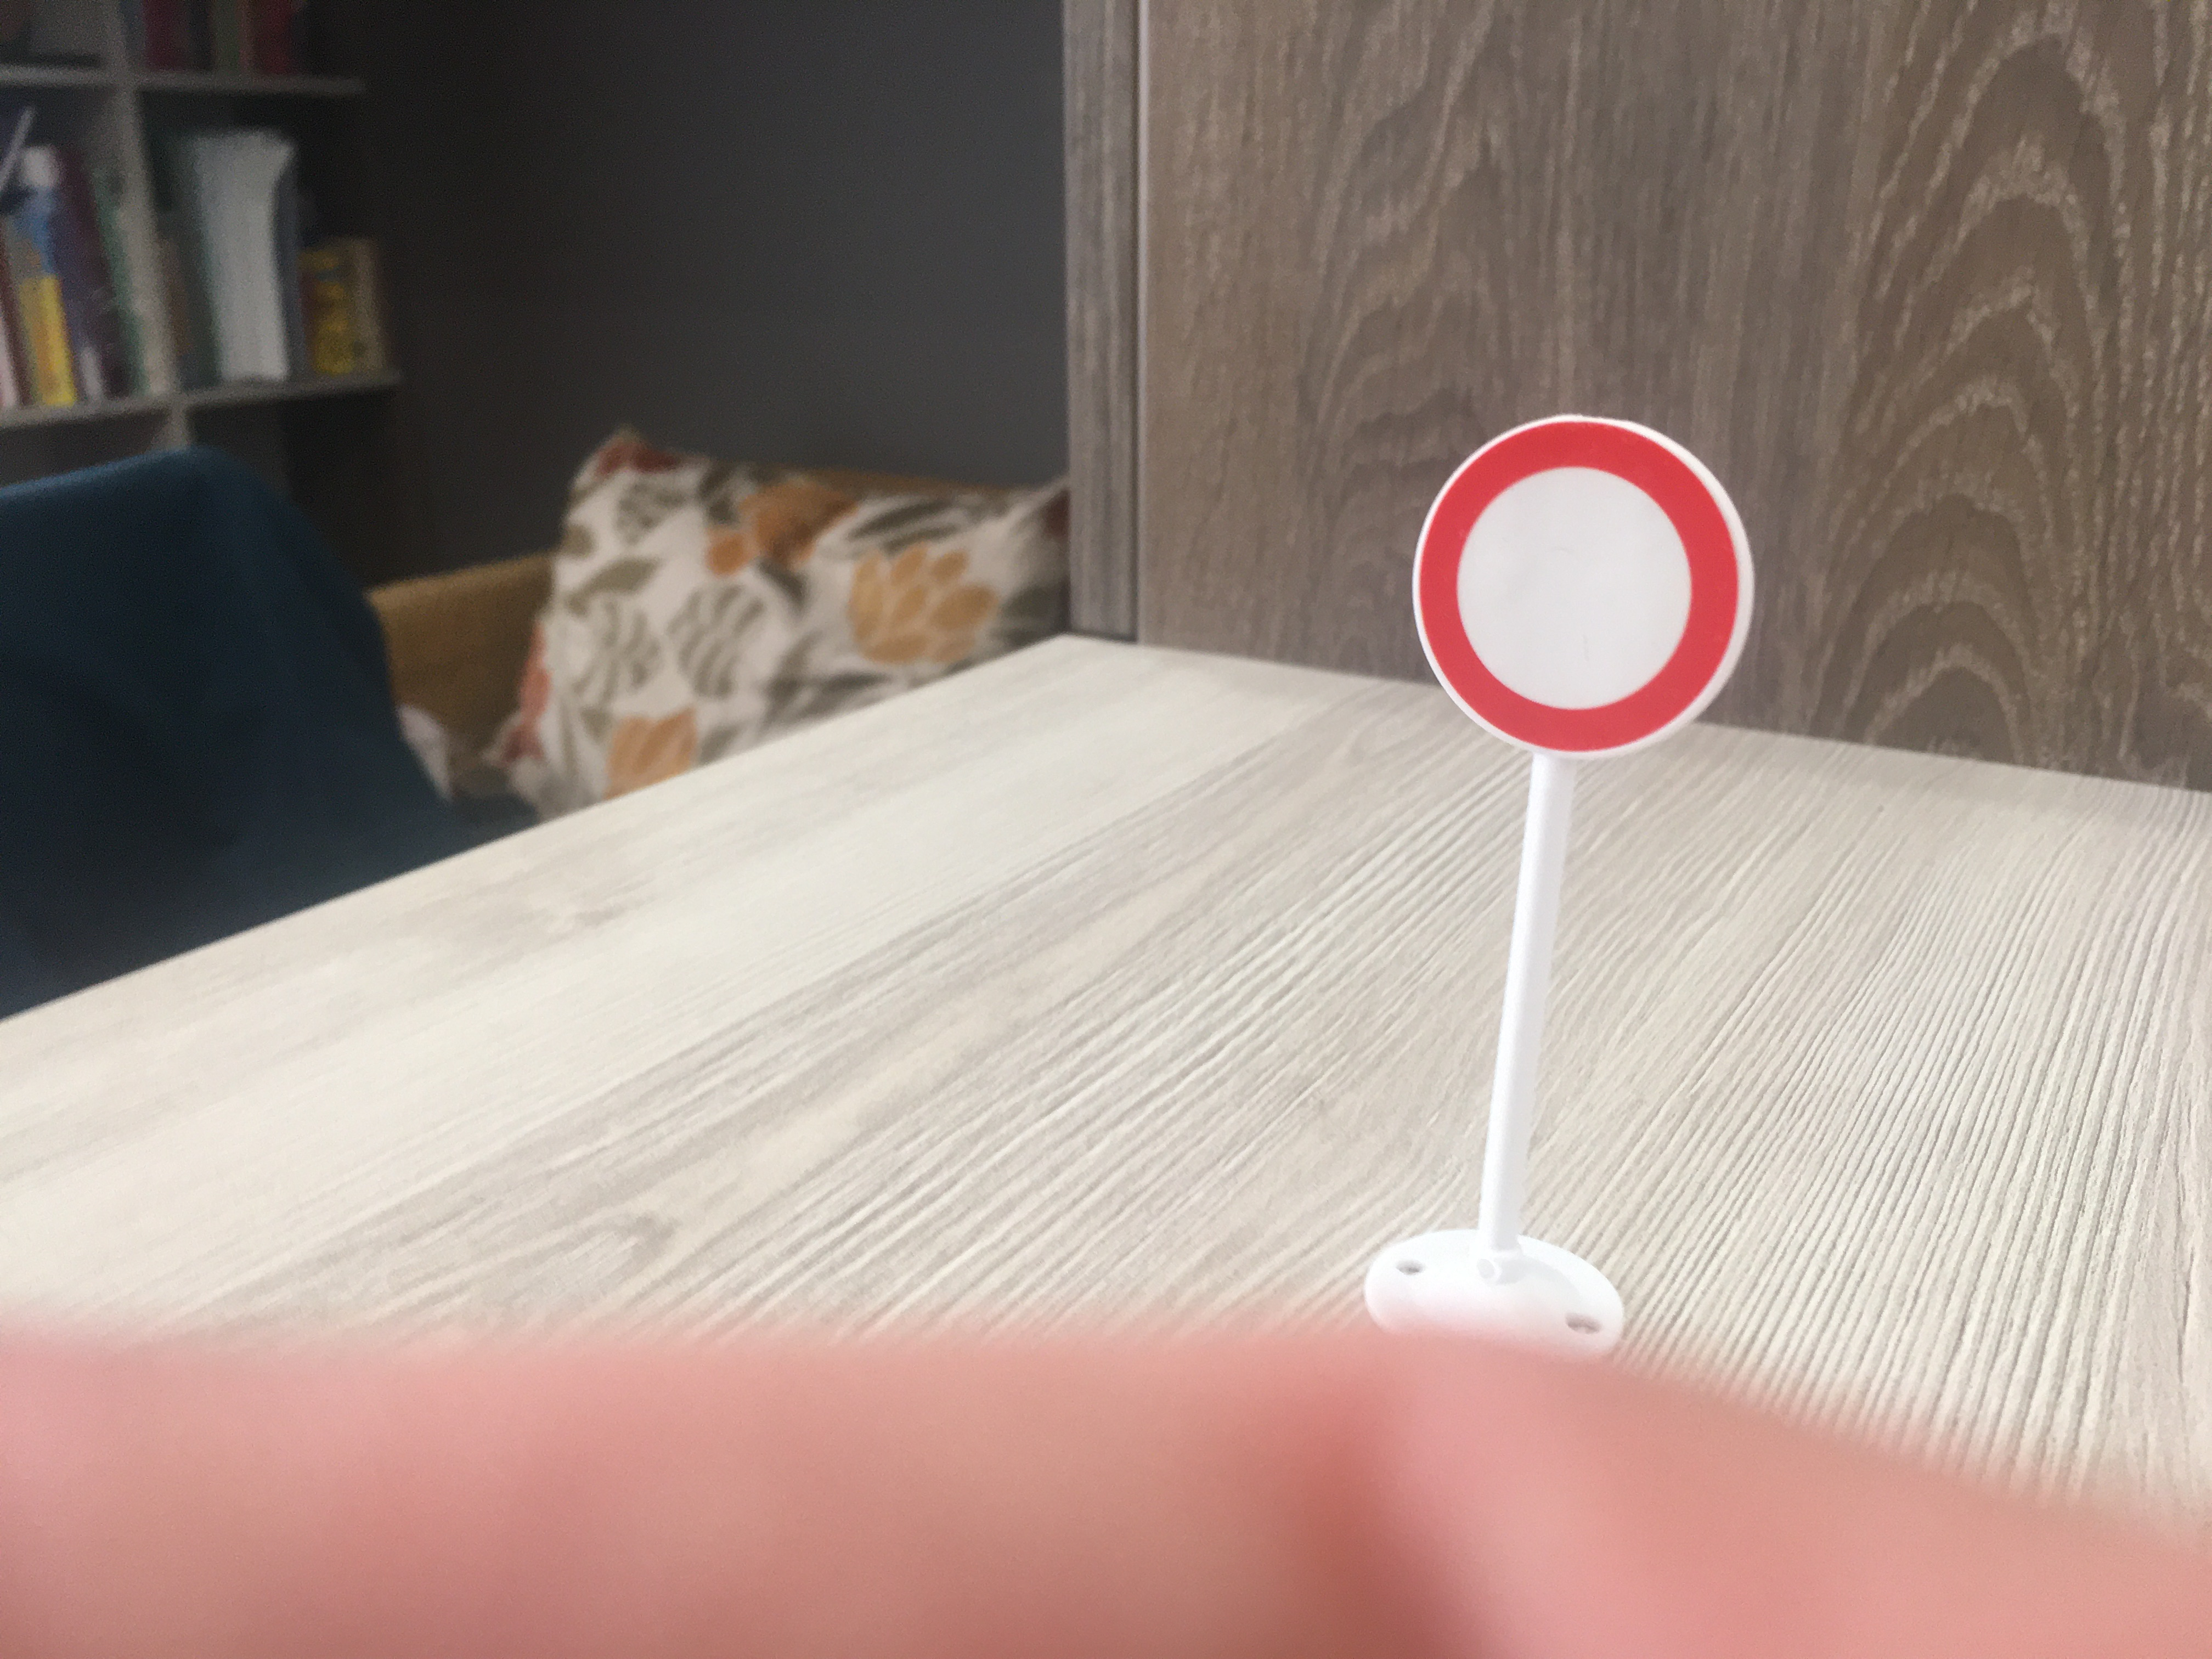noDrive: (1406, 418, 1759, 760)
